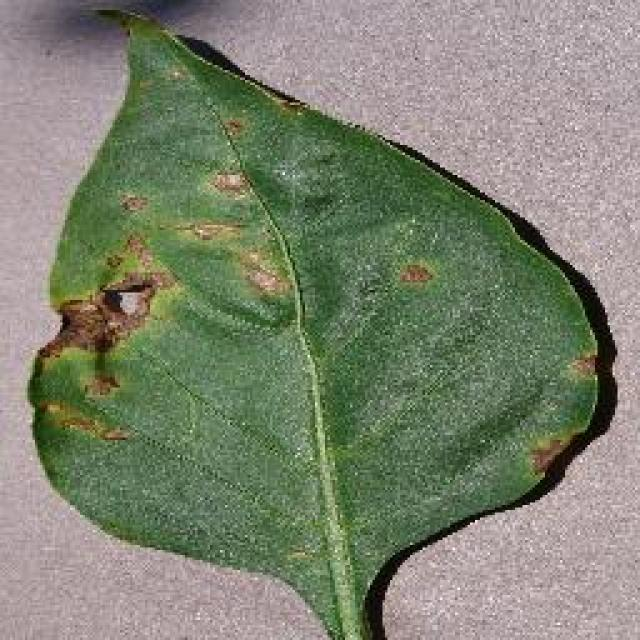Chilli_Bacterial_Spot: (23, 2, 615, 638), (25, 162, 300, 448), (522, 348, 602, 482), (48, 270, 160, 358), (32, 395, 130, 447), (50, 297, 118, 355), (232, 245, 292, 305), (95, 275, 157, 325), (165, 212, 243, 248), (523, 432, 575, 480), (205, 165, 250, 200), (562, 347, 600, 385), (393, 258, 435, 290), (78, 370, 122, 400), (112, 188, 150, 218), (218, 112, 248, 142)
